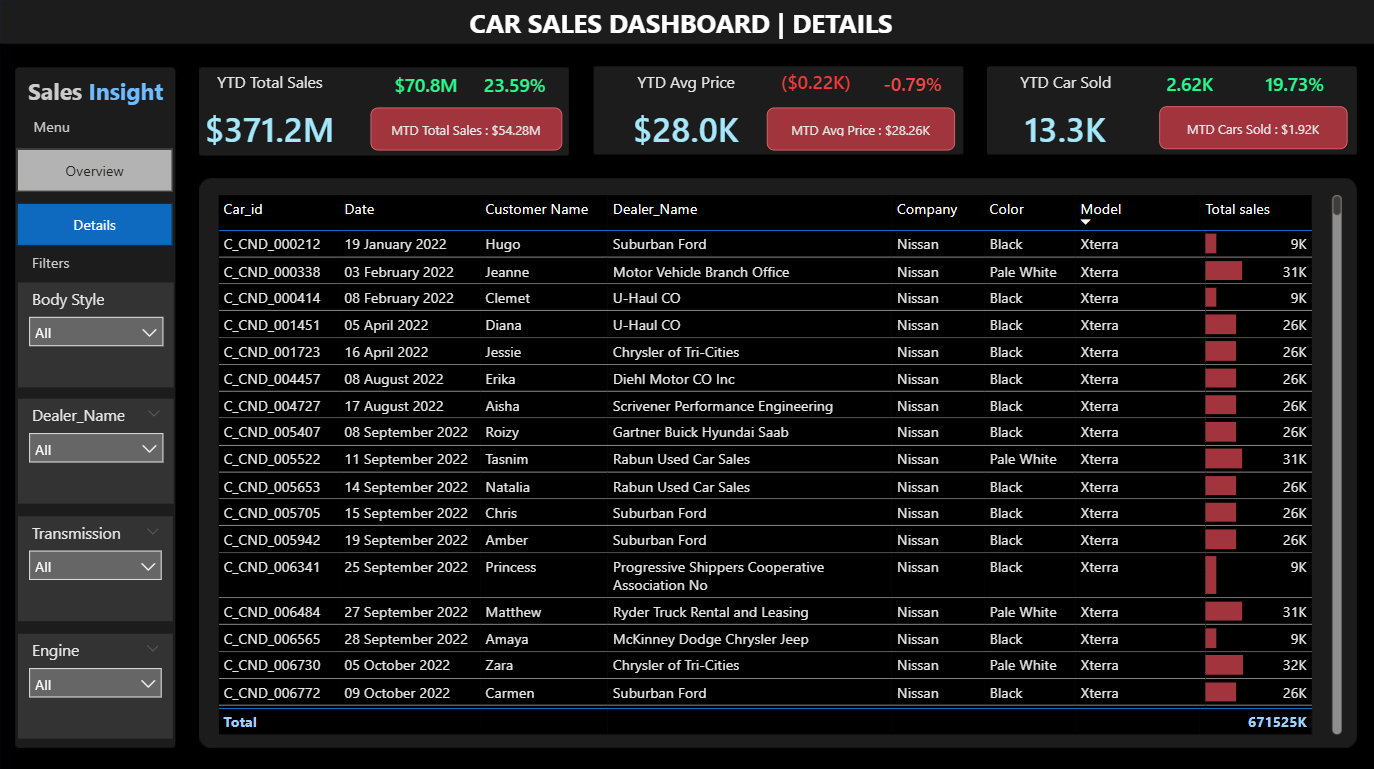

This screenshot's page, from the dashboard's own definition file:
{"tool":"powerbi","page":{"name":"Details","canvas":[1280,720],"ordinal":1},"visuals":[{"type":"cardVisual","title":"YTD Total Sales","fields":{"Data":["car_data.YTD Total Sales"]},"box":[166.3,66.3,173.3,88.4],"z":0},{"type":"cardVisual","fields":{"Data":["car_data.Sales Difference"]},"box":[339.5,52.3,117.4,50],"z":1000},{"type":"cardVisual","fields":{"Data":["car_data.YOY Sales Growth"]},"box":[422.1,52.3,117.4,50],"z":2000},{"type":"cardVisual","fields":{"Data":["car_data.MTD KPI"]},"box":[347,100,178,40],"z":3000},{"type":"cardVisual","title":"YTD Avg Price","fields":{"Data":["car_data.YTD Avg Price"]},"box":[553.5,66.3,173.3,88.4],"z":4000},{"type":"cardVisual","fields":{"Data":["car_data.Avg Price Diff"]},"box":[702.5,48.8,117.5,50],"z":5000},{"type":"cardVisual","fields":{"Data":["car_data.YOY Avg Price Growth"]},"box":[793.8,52.5,113.8,47.5],"z":6000},{"type":"cardVisual","fields":{"Data":["car_data.MTD Avg Price KPI"]},"box":[715,100,175,40],"z":7000},{"type":"cardVisual","title":"YTD Car Sold","fields":{"Data":["car_data.YTD Cars Sold"]},"box":[907.5,66.2,172.5,88.8],"z":8000},{"type":"cardVisual","fields":{"Data":["car_data.Cars Sold Diff"]},"box":[1050,55,117.5,43.8],"z":9000},{"type":"cardVisual","fields":{"Data":["car_data.YoY Car Sold Growth"]},"box":[1147.5,55,117.5,43.8],"z":10000},{"type":"cardVisual","fields":{"Data":["car_data.MTD Cars Sold KPI"]},"box":[1080,98.8,175,40],"z":11000},{"type":"textbox","box":[433.8,0,412.5,42.5],"z":12000},{"type":"slicer","fields":{"Values":["car_data.Body Style"]},"box":[19,262.5,145,97.5],"z":13000},{"type":"slicer","fields":{"Values":["car_data.Dealer_Name"]},"box":[19,371.2,145,97.5],"z":14000},{"type":"slicer","fields":{"Values":["car_data.Transmission"]},"box":[19,480,143.8,97.5],"z":15000},{"type":"slicer","fields":{"Values":["car_data.Engine"]},"box":[19,590,143.8,97.5],"z":16000},{"type":"textbox","box":[26.2,230,56.2,27.5],"z":17000},{"type":"tableEx","fields":{"Values":["car_data.Car_id","car_data.Date","car_data.Customer Name","car_data.Dealer_Name","car_data.Company","car_data.Color","car_data.Model","car_data.Price ($)"]},"box":[198.8,176.2,1056.2,511.2],"z":18000},{"type":"textbox","box":[19.2,65.1,144.4,44.7],"z":19000},{"type":"textbox","box":[17.9,103.5,65.1,35.8],"z":20000},{"type":"pageNavigator","box":[17.9,138.5,145.2,91.6],"z":21000}]}

Visuals, with their boxes in screenshot pixels (x1, y1, x2, y2), scaled from the page's 1280x720 canvas onto the 1374x769 screenshot:
"YTD Total Sales" cardVisual: 179:71:365:165
cardVisual - car_data.Sales Difference: 364:56:490:109
cardVisual - car_data.YOY Sales Growth: 453:56:579:109
cardVisual - car_data.MTD KPI: 372:107:564:150
"YTD Avg Price" cardVisual: 594:71:780:165
cardVisual - car_data.Avg Price Diff: 754:52:880:106
cardVisual - car_data.YOY Avg Price Growth: 852:56:974:107
cardVisual - car_data.MTD Avg Price KPI: 768:107:955:150
"YTD Car Sold" cardVisual: 974:71:1159:166
cardVisual - car_data.Cars Sold Diff: 1127:59:1253:106
cardVisual - car_data.YoY Car Sold Growth: 1232:59:1358:106
cardVisual - car_data.MTD Cars Sold KPI: 1159:106:1347:148
textbox: 466:0:908:45
slicer - car_data.Body Style: 20:280:176:384
slicer - car_data.Dealer_Name: 20:396:176:501
slicer - car_data.Transmission: 20:513:175:617
slicer - car_data.Engine: 20:630:175:734
textbox: 28:246:88:275
tableEx - car_data.Car_id x car_data.Date: 213:188:1347:734
textbox: 21:70:176:117
textbox: 19:111:89:149
pageNavigator: 19:148:175:246
